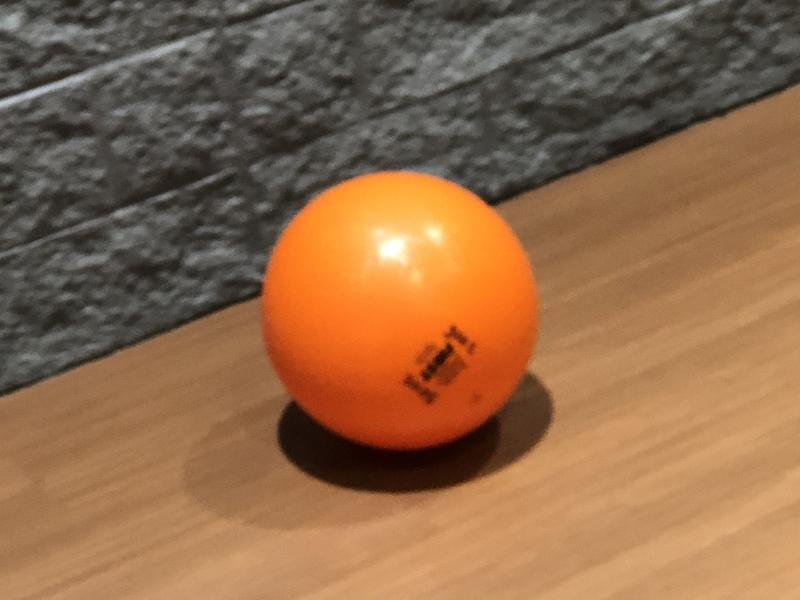ball: (264, 169, 540, 449)
